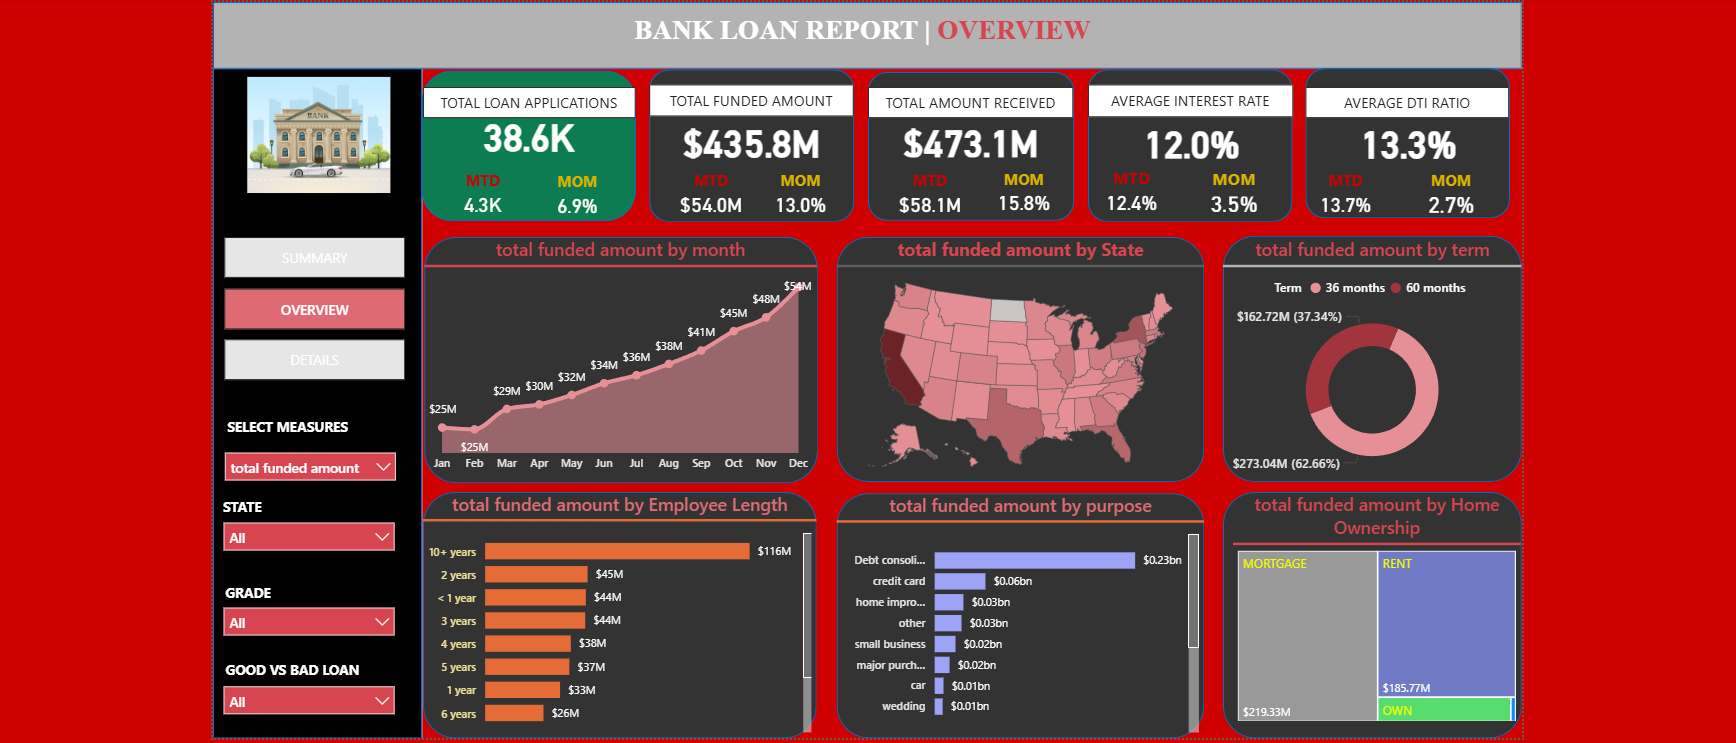

The page's visual inventory and layout, read from the dashboard file:
{"tool":"powerbi","page":{"name":"OVERVIEW","canvas":[1280,720],"ordinal":1},"visuals":[{"type":"shape","box":[0,64.4,204.5,655.6],"z":0},{"type":"shape","box":[1069.3,65,200,146.7],"z":0,"group":"g6"},{"type":"shape","box":[855.6,65.8,200,149.2],"z":0,"group":"g7"},{"type":"shape","box":[204.1,67.5,209.5,147],"z":0,"group":"g2"},{"type":"shape","box":[206.7,229.9,385.1,240.9],"z":0,"group":"g5"},{"type":"shape","box":[426.8,65.8,200.5,149.2],"z":1000,"group":"g4"},{"type":"card","fields":{"Values":["bank financial_loan.Total Loan Applications"]},"box":[204.2,107.9,209.5,45.2],"z":1000,"group":"g2"},{"type":"card","fields":{"Values":["bank financial_loan.AVERAGE DTI RATIO"]},"box":[1069.3,113.9,201.8,45.4],"z":1000,"group":"g6"},{"type":"card","fields":{"Values":["bank financial_loan.AVERAGE INTEREST RATE"]},"box":[858,114.2,198.1,43.4],"z":1000,"group":"g7"},{"type":"shape","box":[205.4,479.1,385.2,240.9],"z":1000},{"type":"shape","box":[640.7,68.3,201.7,145.5],"z":2000,"group":"g8"},{"type":"textbox","box":[855.6,80.7,200.5,32.3],"z":2000,"group":"g7"},{"type":"textbox","box":[205.3,83.4,207.9,30.6],"z":2000,"group":"g2"},{"type":"textbox","box":[1069.3,83.6,199.3,30],"z":2000,"group":"g6"},{"type":"shape","box":[610.2,229.9,359.5,239.7],"z":2000},{"type":"shape","box":[0,0,1280.3,65.4],"z":3000},{"type":"card","title":"MTD","fields":{"Values":["bank financial_loan.MTD avg interest rate"]},"box":[865.1,159.5,65.6,47],"z":3000,"group":"g7"},{"type":"card","title":"MTD","fields":{"Values":["bank financial_loan.MTD avg dti ratio"]},"box":[1075.4,164,66,46.6],"z":3000,"group":"g6"},{"type":"card","title":"MTD","fields":{"Values":["bank financial_loan.MTD"]},"box":[221.9,164.1,83,50.1],"z":3000,"group":"g2"},{"type":"textbox","box":[407.7,7.4,489.5,48.3],"z":4000},{"type":"card","fields":{"Values":["bank financial_loan.total funded amount"]},"box":[426.8,111.8,200.5,46],"z":4000,"group":"g4"},{"type":"card","title":"MOM","fields":{"Values":["bank financial_loan.MOM avg interest rate"]},"box":[965.1,160.6,65.6,47],"z":4000,"group":"g7"},{"type":"card","title":"MOM","fields":{"Values":["bank financial_loan.MOM avg dti ratio"]},"box":[1179.4,164,64.8,46.6],"z":4000,"group":"g6"},{"type":"card","title":"MOM","fields":{"Values":["bank financial_loan.MOM LOAN APPLICATIONS"]},"box":[314.4,165.3,84.3,50.1],"z":4000,"group":"g2"},{"type":"group","id":"g1","title":"Group 2","box":[855.6,65.8,200.5,149.2],"z":5000},{"type":"card","fields":{"Values":["bank financial_loan.TOTAL AMOUNT RECEIVED"]},"box":[640.7,114,201.7,43.3],"z":5000,"group":"g8"},{"type":"textbox","box":[0,479.6,57.1,29.2],"z":6000},{"type":"textbox","box":[427.3,80,200,31.5],"z":7000,"group":"g4"},{"type":"slicer","fields":{"Values":["bank financial_loan.address_state"]},"box":[0,498.7,187.8,50.8],"z":7000},{"type":"group","id":"g2","title":"Group 2","box":[204.1,67.5,209.4,148],"z":8000},{"type":"textbox","box":[640.6,82.9,201.1,30.5],"z":8000,"group":"g8"},{"type":"group","id":"g3","title":"Group 2","box":[1069.3,65,201.8,146.7],"z":9000},{"type":"card","title":"MTD","fields":{"Values":["bank financial_loan.MTD funded amount"]},"box":[447.6,164,79.5,51],"z":9000,"group":"g4"},{"type":"card","title":"MTD","fields":{"Values":["bank financial_loan.MTD AMOUNT RECEIVED"]},"box":[661.6,163.3,79.9,49.3],"z":10000,"group":"g8"},{"type":"textbox","box":[1.3,563.4,66,29.2],"z":10000},{"type":"card","title":"MOM","fields":{"Values":["bank financial_loan.MoM funded amount"]},"box":[534.4,164,80.7,51],"z":11000,"group":"g4"},{"type":"slicer","fields":{"Values":["bank financial_loan.grade"]},"box":[0,582.4,187.8,50.8],"z":11000},{"type":"card","title":"MOM","fields":{"Values":["bank financial_loan.MOM AMOUNT RECEIVED"]},"box":[752.6,162.1,79.9,48.1],"z":12000,"group":"g8"},{"type":"slicer","fields":{"Values":["bank financial_loan.Good Vs Bad Loans"]},"box":[0,658.5,187.8,50.8],"z":12000},{"type":"textbox","box":[0,639.2,155.3,29.3],"z":13000},{"type":"group","id":"g4","title":"Group 1","box":[426.8,65.8,200.5,149.2],"z":14000},{"type":"group","id":"g5","title":"Group 6","box":[206.7,229.9,385.1,240.9],"z":15000},{"type":"group","id":"g6","title":"Group 5","box":[1069.3,65,201.8,146.7],"z":15003,"group":"g3"},{"type":"group","id":"g7","title":"Group 4","box":[855.6,65.8,200.5,149.2],"z":15003,"group":"g1"},{"type":"shapeMap","fields":{"Value":["bank financial_loan.total funded amount"],"Category":["bank financial_loan.address_state"]},"box":[610.2,229.9,359.5,239.7],"z":16000},{"type":"areaChart","fields":{"Y":["bank financial_loan.total funded amount"],"Category":["date table.month"]},"box":[207.1,230,384,238.5],"z":16001,"group":"g5"},{"type":"group","id":"g8","title":"Group 3","box":[640.6,68.3,201.8,145.5],"z":17000},{"type":"slicer","fields":{"Values":["Select Measures.Select Measures"]},"box":[1.3,430.1,187.8,50.8],"z":18000},{"type":"textbox","box":[0,401,145.9,30.5],"z":19000},{"type":"shape","box":[988,228.7,292.3,240.9],"z":20000},{"type":"donutChart","fields":{"Y":["bank financial_loan.total funded amount"],"Category":["bank financial_loan.term"]},"box":[988,229.9,292.3,240.9],"z":21000},{"type":"barChart","fields":{"Y":["bank financial_loan.total funded amount"],"Category":["bank financial_loan.emp_length"]},"box":[205.4,479.4,385.2,240.9],"z":22000},{"type":"shape","box":[610.2,480.6,359.5,239.7],"z":23000},{"type":"barChart","fields":{"Y":["bank financial_loan.total funded amount"],"Category":["bank financial_loan.purpose"]},"box":[610.2,480.6,359.5,239.7],"z":24000},{"type":"shape","box":[987.7,479.1,292.3,240.9],"z":25000},{"type":"treemap","fields":{"Values":["bank financial_loan.total funded amount"],"Group":["bank financial_loan.home_ownership"]},"box":[997.3,479.6,281.7,229.7],"z":26000},{"type":"pageNavigator","box":[11.4,229.7,177.6,142.1],"z":27000},{"type":"image","box":[17.8,68.5,170,123.1],"z":28000}]}

Visuals, with their boxes on the page's 1280x720 design canvas (x1, y1, x2, y2). These are canvas units, not pixel positions in the 1736x743 screenshot, which may show the page scaled, cropped or inside an application window:
shape: 0, 64, 204, 720
shape: 1069, 65, 1269, 212
shape: 856, 66, 1056, 215
shape: 204, 68, 414, 214
shape: 207, 230, 592, 471
shape: 427, 66, 627, 215
card - bank financial_loan.Total Loan Applications: 204, 108, 414, 153
card - bank financial_loan.AVERAGE DTI RATIO: 1069, 114, 1271, 159
card - bank financial_loan.AVERAGE INTEREST RATE: 858, 114, 1056, 158
shape: 205, 479, 591, 720
shape: 641, 68, 842, 214
textbox: 856, 81, 1056, 113
textbox: 205, 83, 413, 114
textbox: 1069, 84, 1269, 114
shape: 610, 230, 970, 470
shape: 0, 0, 1280, 65
"MTD" card: 865, 160, 931, 206
"MTD" card: 1075, 164, 1141, 211
"MTD" card: 222, 164, 305, 214
textbox: 408, 7, 897, 56
card - bank financial_loan.total funded amount: 427, 112, 627, 158
"MOM" card: 965, 161, 1031, 208
"MOM" card: 1179, 164, 1244, 211
"MOM" card: 314, 165, 399, 215
"Group 2" group: 856, 66, 1056, 215
card - bank financial_loan.TOTAL AMOUNT RECEIVED: 641, 114, 842, 157
textbox: 0, 480, 57, 509
textbox: 427, 80, 627, 112
slicer - bank financial_loan.address_state: 0, 499, 188, 550
"Group 2" group: 204, 68, 414, 216
textbox: 641, 83, 842, 113
"Group 2" group: 1069, 65, 1271, 212
"MTD" card: 448, 164, 527, 215
"MTD" card: 662, 163, 742, 213
textbox: 1, 563, 67, 593
"MOM" card: 534, 164, 615, 215
slicer - bank financial_loan.grade: 0, 582, 188, 633
"MOM" card: 753, 162, 832, 210
slicer - bank financial_loan.Good Vs Bad Loans: 0, 658, 188, 709
textbox: 0, 639, 155, 668
"Group 1" group: 427, 66, 627, 215
"Group 6" group: 207, 230, 592, 471
"Group 5" group: 1069, 65, 1271, 212
"Group 4" group: 856, 66, 1056, 215
shapeMap - bank financial_loan.total funded amount x bank financial_loan.address_state: 610, 230, 970, 470
areaChart - bank financial_loan.total funded amount x date table.month: 207, 230, 591, 468
"Group 3" group: 641, 68, 842, 214
slicer - Select Measures.Select Measures: 1, 430, 189, 481
textbox: 0, 401, 146, 432
shape: 988, 229, 1280, 470
donutChart - bank financial_loan.total funded amount x bank financial_loan.term: 988, 230, 1280, 471
barChart - bank financial_loan.total funded amount x bank financial_loan.emp_length: 205, 479, 591, 720
shape: 610, 481, 970, 720
barChart - bank financial_loan.total funded amount x bank financial_loan.purpose: 610, 481, 970, 720
shape: 988, 479, 1280, 720
treemap - bank financial_loan.total funded amount x bank financial_loan.home_ownership: 997, 480, 1279, 709
pageNavigator: 11, 230, 189, 372
image: 18, 68, 188, 192
